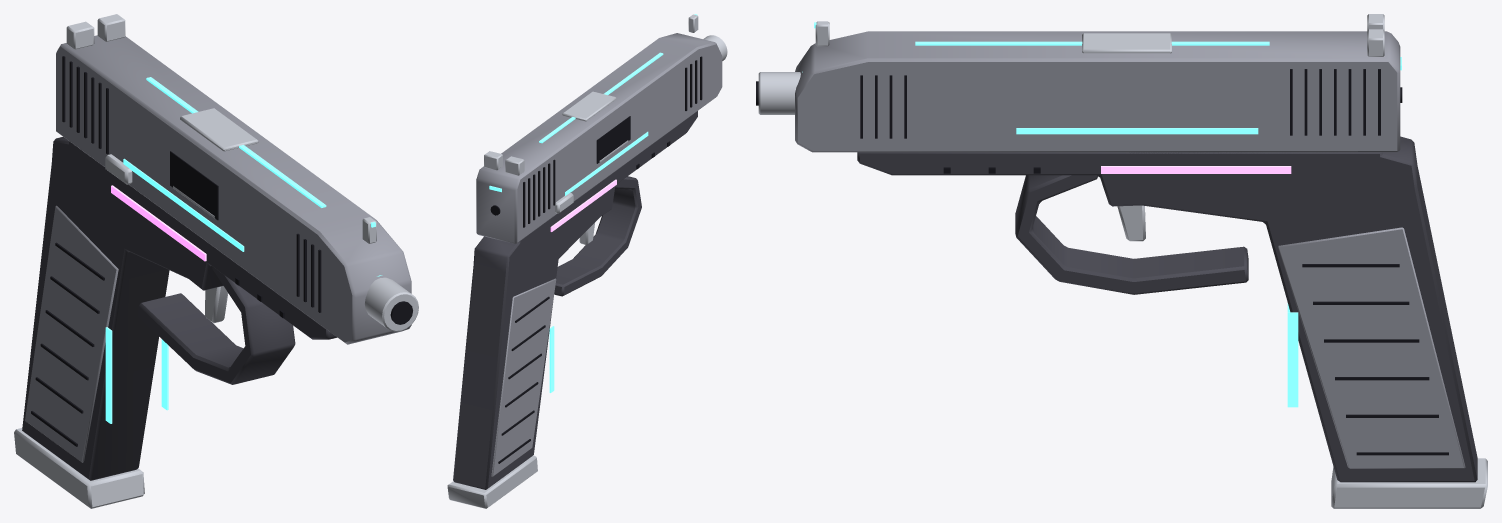
The model's file is w_pistol.glb.
3 renders of one model, left to right at view 1: azimuth 30°, elevation 25°; view 2: azimuth 150°, elevation 25°; view 3: azimuth 270°, elevation 25°, orthographic. The views are drawn at different scales.
Visible parts, largest first — view 1: body.slide, grip, body, metal.slide, dark.slide, metal.mag, acc.slide, dark, acc, metal, heat; view 2: grip, body.slide, body, dark.slide, metal.slide, metal.mag, acc.slide, dark, heat, metal, acc; view 3: body.slide, grip, body, metal.slide, metal.mag, acc.slide, dark.slide, dark, heat, acc, metal.
Part boxes in pixels (<box>): body.slide: <box>56,35,411,344</box>; grip: <box>22,137,337,480</box>; body: <box>25,205,118,462</box>; metal.slide: <box>66,14,418,331</box>; dark.slide: <box>62,56,412,324</box>; metal.mag: <box>14,428,144,508</box>; acc.slide: <box>123,77,382,276</box>; dark: <box>31,242,284,446</box>; acc: <box>105,327,168,423</box>; metal: <box>105,154,228,323</box>; heat: <box>111,185,206,261</box>; grip: <box>453,111,697,489</box>; body.slide: <box>476,33,722,243</box>; body: <box>491,278,556,476</box>; dark.slide: <box>490,56,702,227</box>; metal.slide: <box>484,14,727,175</box>; metal.mag: <box>447,455,537,508</box>; acc.slide: <box>489,14,697,195</box>; dark: <box>498,141,670,463</box>; heat: <box>550,179,616,231</box>; metal: <box>555,193,594,244</box>; acc: <box>549,326,554,392</box>; body.slide: <box>795,31,1400,152</box>; grip: <box>857,136,1477,482</box>; body: <box>1278,227,1465,468</box>; metal.slide: <box>758,14,1384,114</box>; metal.mag: <box>1331,458,1487,508</box>; acc.slide: <box>802,22,1401,134</box>; dark.slide: <box>756,69,1402,138</box>; dark: <box>943,167,1448,455</box>; heat: <box>1101,166,1291,173</box>; acc: <box>1287,303,1298,407</box>; metal: <box>1117,205,1145,241</box>.
Bounding box in the file's own units: 0.0454 × 0.302 × 0.4232.
